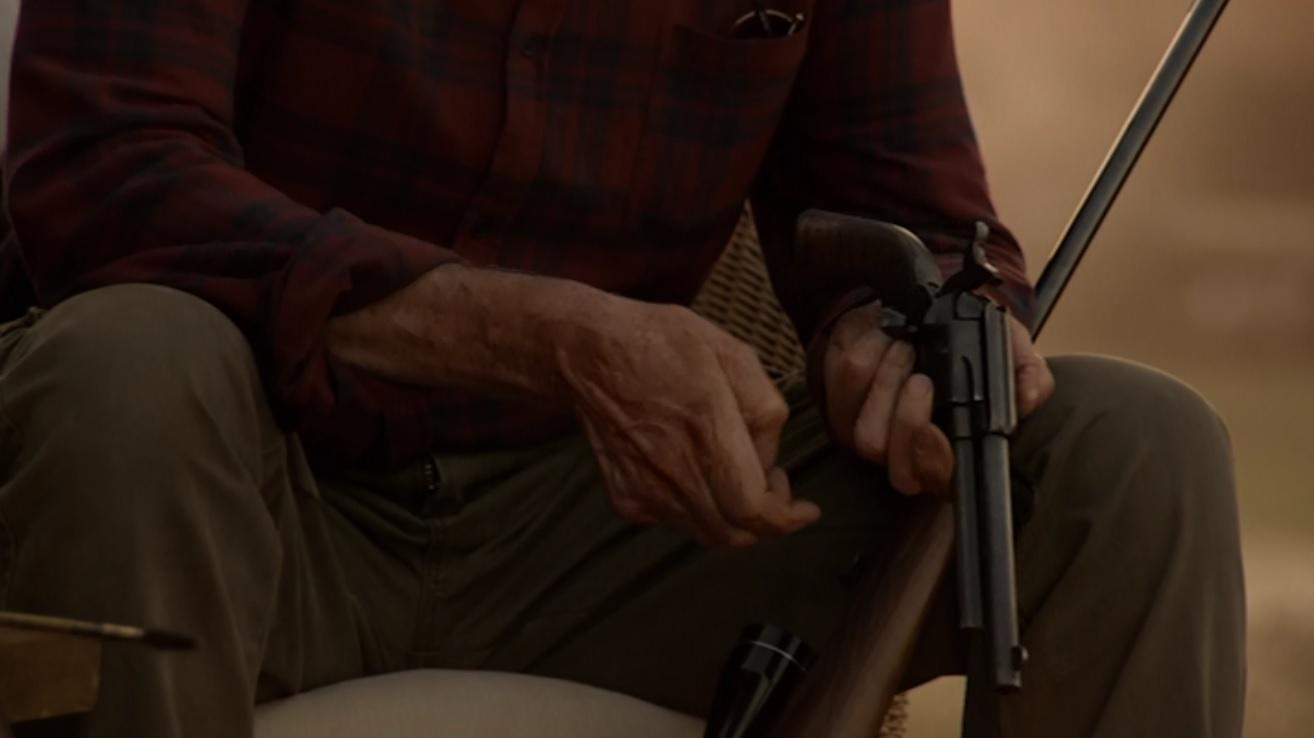gun: (776, 185, 1053, 707)
